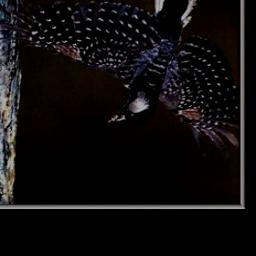Woodpecker: (0, 0, 239, 158)
